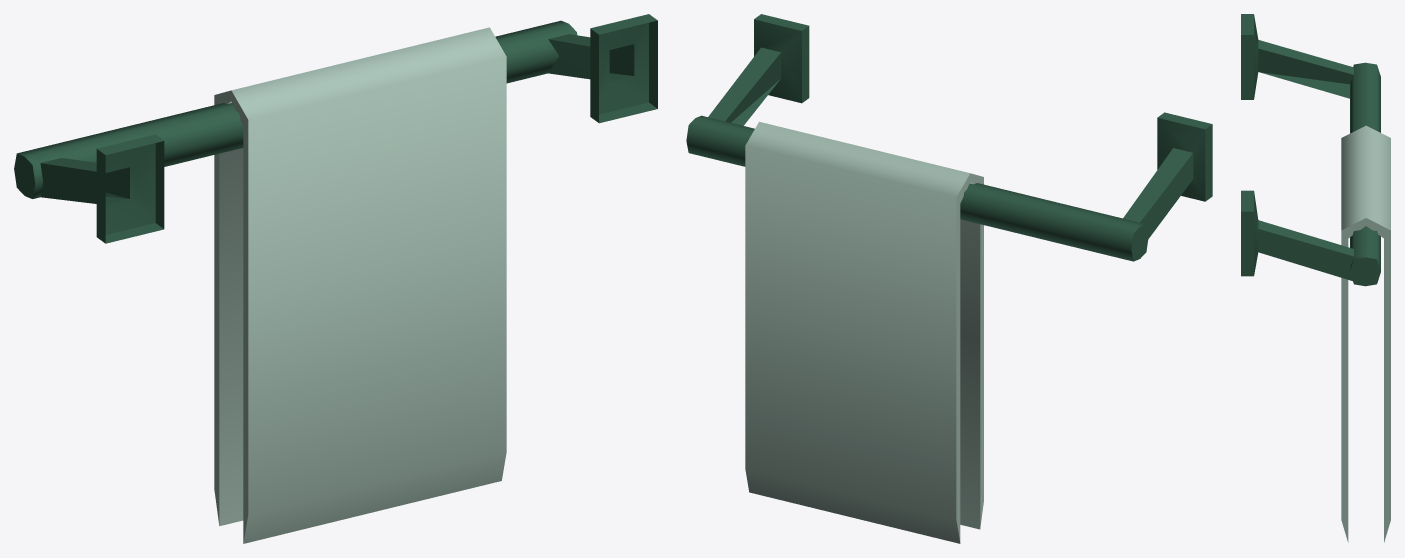
Rendered from Prop_sci_ba01.FBX.
3 renders of one model, left to right at view 1: azimuth 30°, elevation 25°; view 2: azimuth 150°, elevation 25°; view 3: azimuth 270°, elevation 25°, orthographic. The views are drawn at different scales.
Parts seen in each view (by area): view 1: Prop_sci_tow, Prop_sci_ba01; view 2: Prop_sci_tow, Prop_sci_ba01; view 3: Prop_sci_ba01, Prop_sci_tow.
Part boxes in pixels (left/top/right/bottom): Prop_sci_tow: left=214, top=27, right=506, bottom=543; Prop_sci_ba01: left=14, top=14, right=657, bottom=243; Prop_sci_tow: left=745, top=121, right=983, bottom=543; Prop_sci_ba01: left=686, top=14, right=1212, bottom=261; Prop_sci_ba01: left=1241, top=14, right=1380, bottom=286; Prop_sci_tow: left=1341, top=125, right=1390, bottom=542.
Size of the model in its own units: 20.71 by 17.7 by 6.64.
